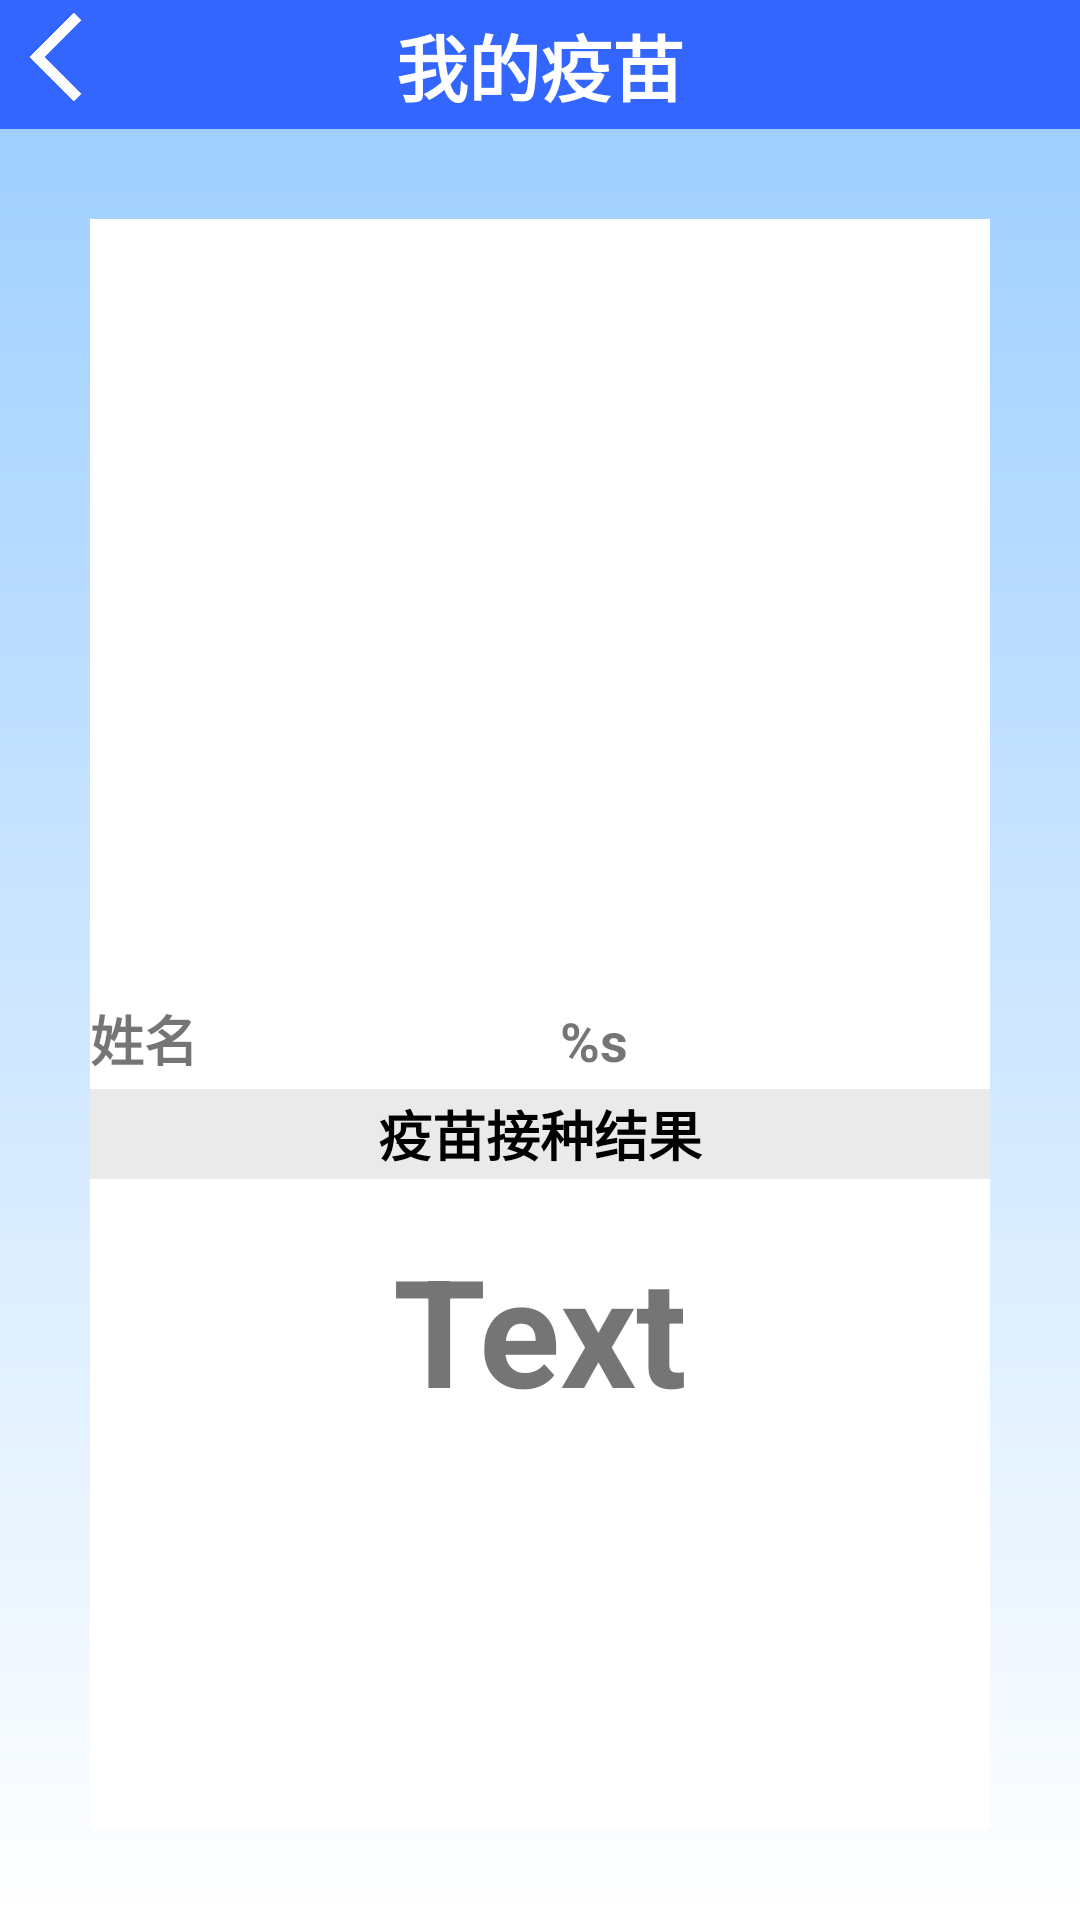

Locate icon controls on the screen. Image size 1080 × 1920, boxes as (x1, y1, x2, y2).
back: (30, 13, 82, 101)
